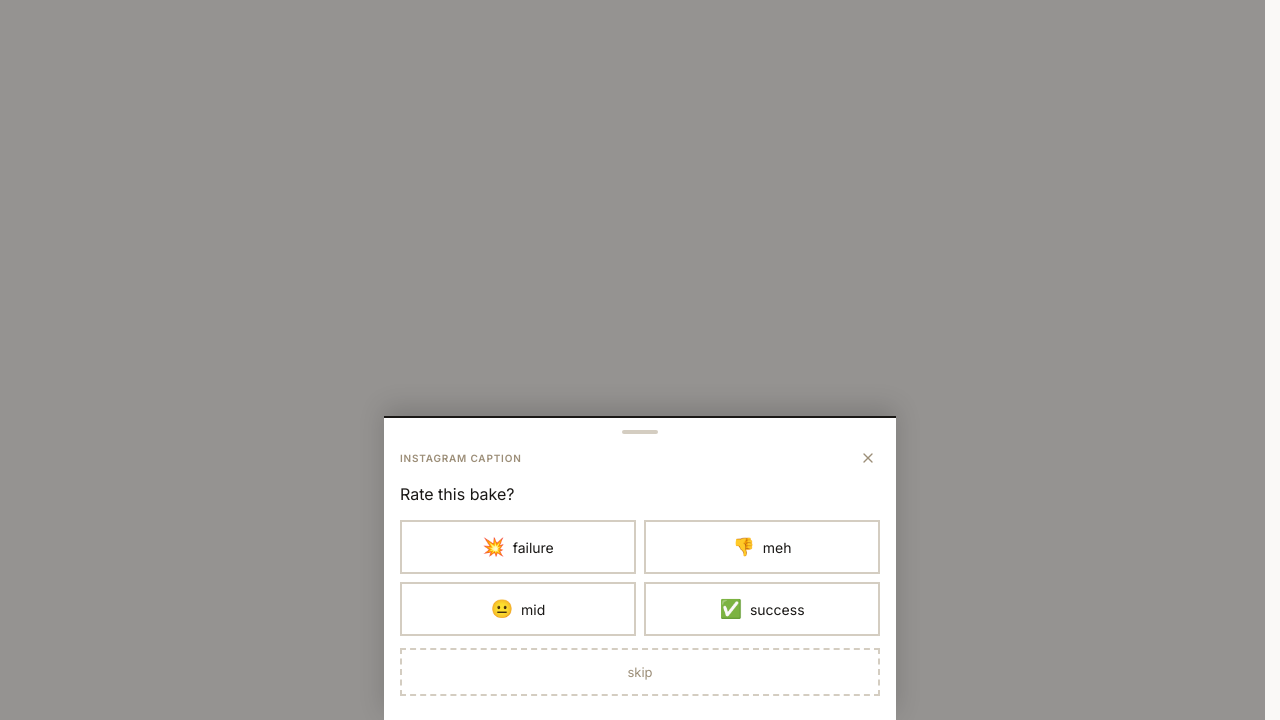
ShareBottomSheet › rate pick advances to preview
The width and height of the screenshot is (1280, 720).
Click the button with test id "share-rate-mid" at (518, 609), box [400,582,636,636]
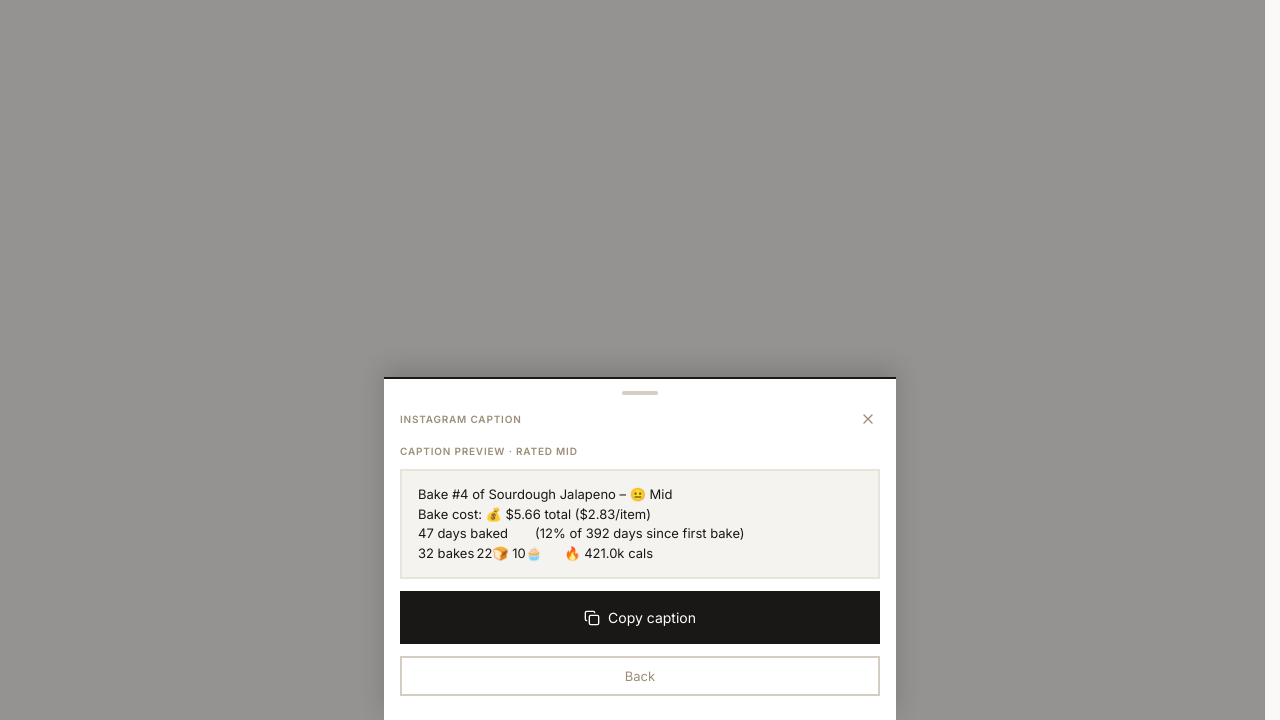
Now the text with test id "share-caption" is shown, box [400,469,880,579]
